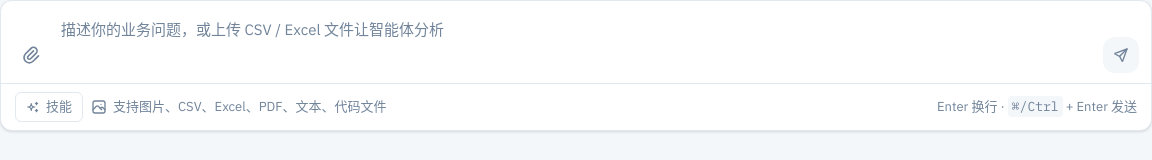
Test: Composer › fetchSkills 失败静默：输入框仍可用，技能选择器空
The image size is (1152, 160).
Type "still works" into the text box with placeholder "描述你的业务问题，或上传 CSV / Excel 文件让智能体分析". click: (576, 42)
box: [57,11,1095,73]
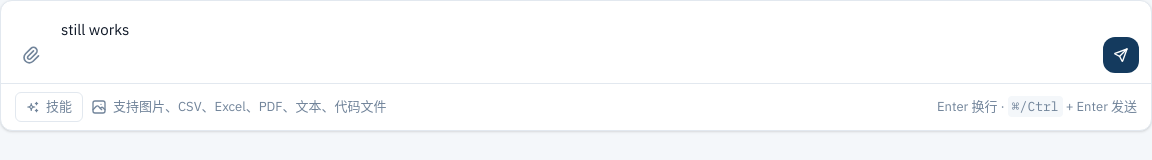
Click the button named "发送". click: click(1121, 55)
box: [1103,37,1139,73]
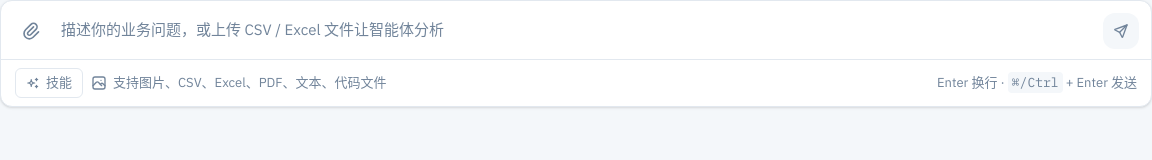
Expected: the button named "发送" is disabled, [1103,13,1139,49]
